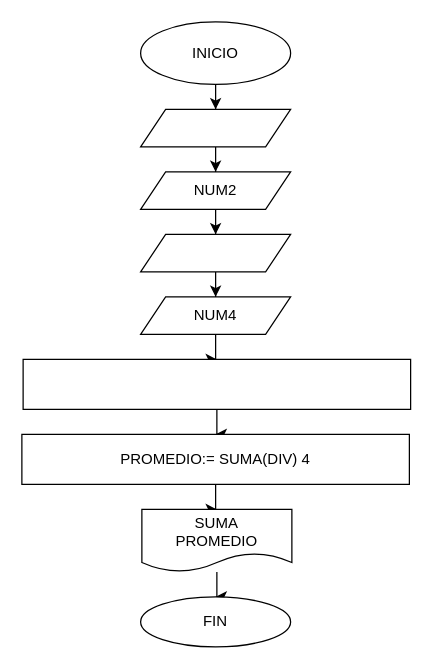
The diagram is 433 pixels wide and 669 high, and some of its shapes have lost their labels. The shapes that lost their labels are listed below. From the top down, each one's centre as x and y in pixels, then its label:
At (215,127): "NUM1".
At (215,252): "NUM3".
At (216,383): "SUMA := NUM1 + NUM2 + NUM3 + NUM4".
